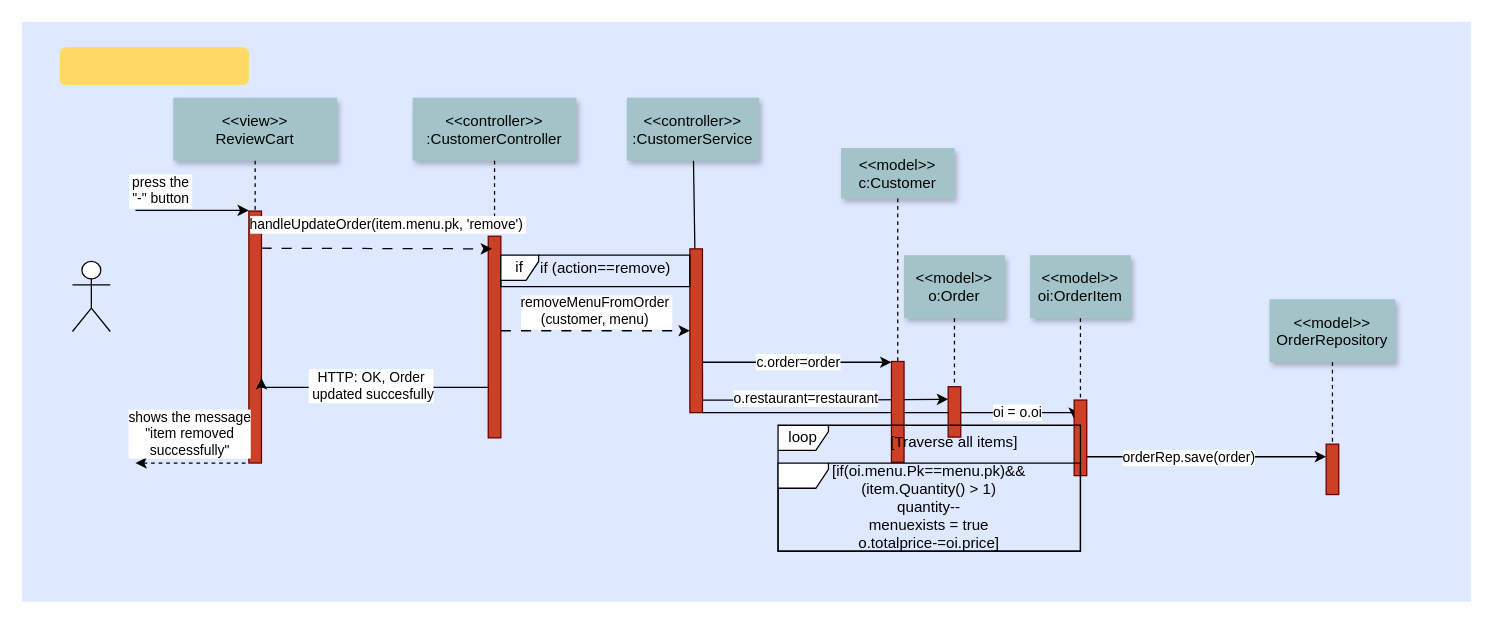
The diagram is 1492 pixels wide and 622 high, and some of its shapes have lost their labels. The centre of each missing label's shape, as x and y in pixels:
"cond" belongs at [928,506].
"Customer" belongs at [90,296].
"removing order from cart" belongs at [153,65].
